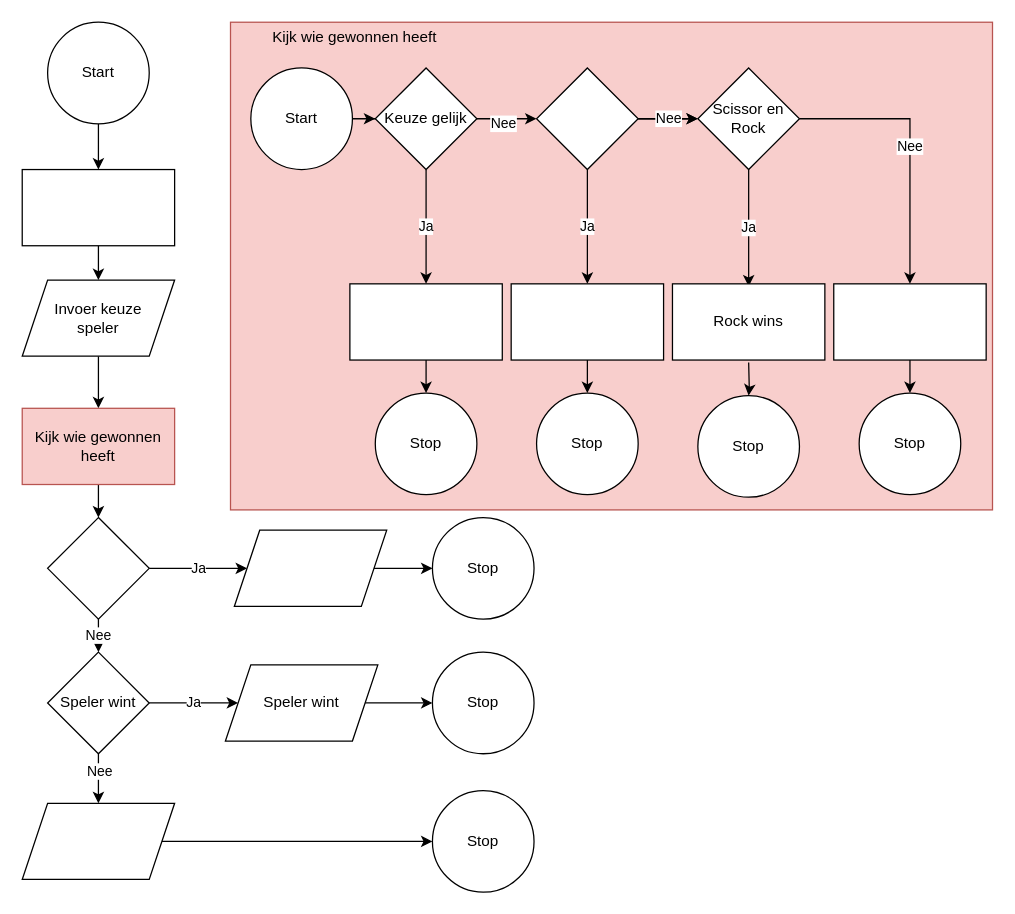
The diagram is 1015 pixels wide and 914 high, and some of its shapes have lost their labels. The centre of each missing label's shape, as x and y in pixels:
"Computer kiest maar houd keuze verborgen" goes at (98,207).
"Gelijk" goes at (310,567).
"Gelijk spel?" goes at (97,567).
"Output gelijk" goes at (425,321).
"Paper en Scissor" goes at (586,118).
"Paper wins" goes at (909,321).
"Scissor wins" goes at (587,321).
"Speler verliest" goes at (98,840).
